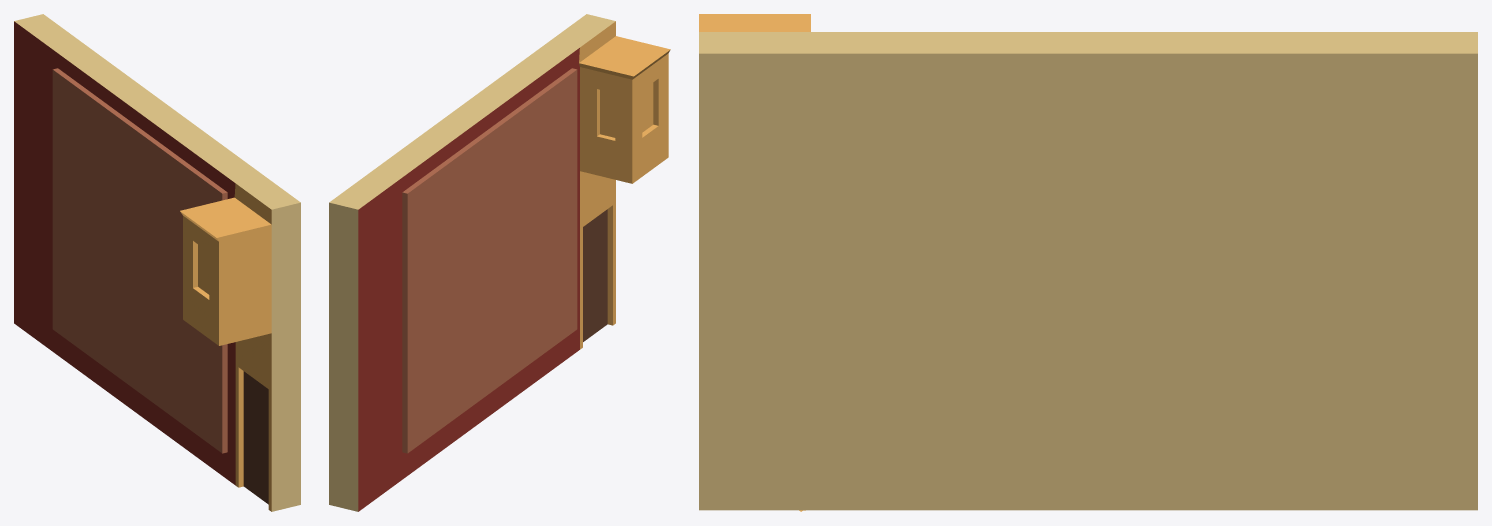
The model's file is GrandChambre_Mur01.fbx.
3 renders of one model, left to right at view 1: azimuth 30°, elevation 25°; view 2: azimuth 150°, elevation 25°; view 3: azimuth 270°, elevation 25°, orthographic. The views are drawn at different scales.
Parts seen in each view (by area): view 1: Mur01; view 2: Mur01; view 3: Mur01.
Boxes of the visible parts, left/top/right/bottom form: Mur01: left=14, top=14, right=300, bottom=511; Mur01: left=329, top=14, right=670, bottom=511; Mur01: left=699, top=14, right=1477, bottom=511.
Size of the model in its own units: 1.78 by 5.94 by 9.18.
